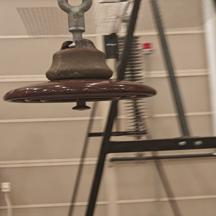insulator: (2, 33, 159, 122)
